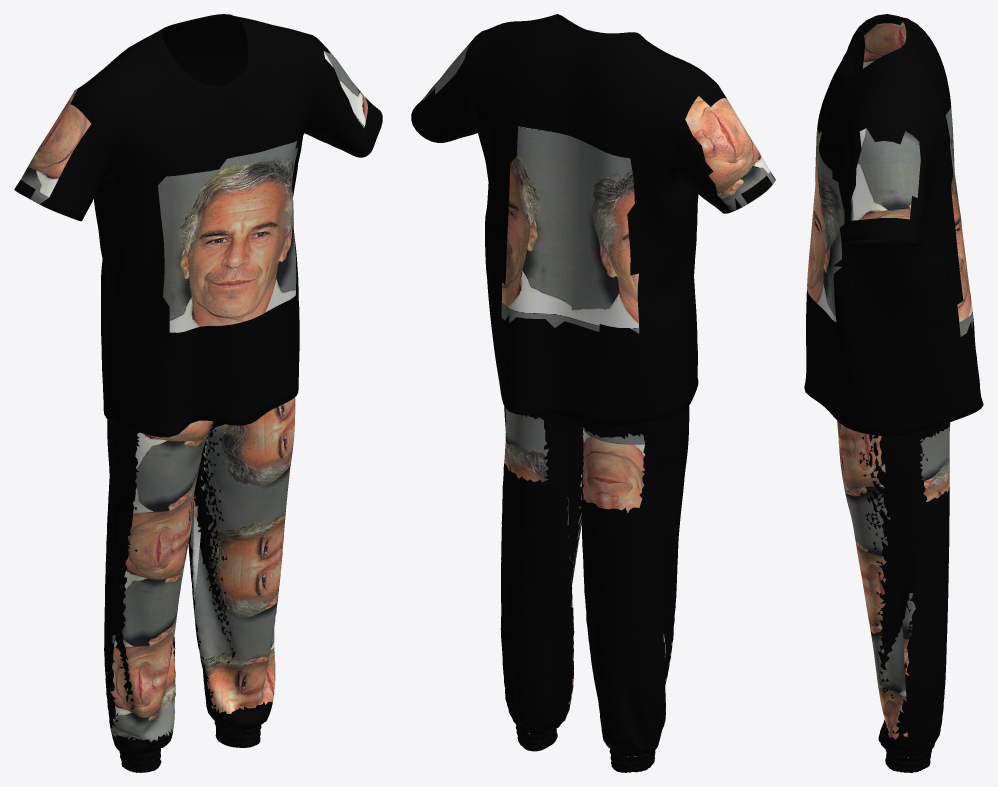
Rendered from basic_t-shirt.glb.
The picture shows the model from 3 angles, left to right: view 1: azimuth 30°, elevation 25°; view 2: azimuth 150°, elevation 25°; view 3: azimuth 270°, elevation 25°; orthographic projection. The views are drawn at different scales.
Visible parts, largest first — view 1: Object_2, SSC_Grey_Sweatpants; view 2: Object_2, SSC_Grey_Sweatpants; view 3: Object_2, SSC_Grey_Sweatpants.
Boxes of the visible parts, x1,y1,x2,y2 form: Object_2: (14,14,382,437); SSC_Grey_Sweatpants: (104,397,295,772); Object_2: (411,14,775,425); SSC_Grey_Sweatpants: (500,406,689,772); Object_2: (804,14,983,436); SSC_Grey_Sweatpants: (837,420,950,772).
Bounding box in the file's own units: 5.46 × 10.76 × 2.46.
4 materials, 2 textured.
